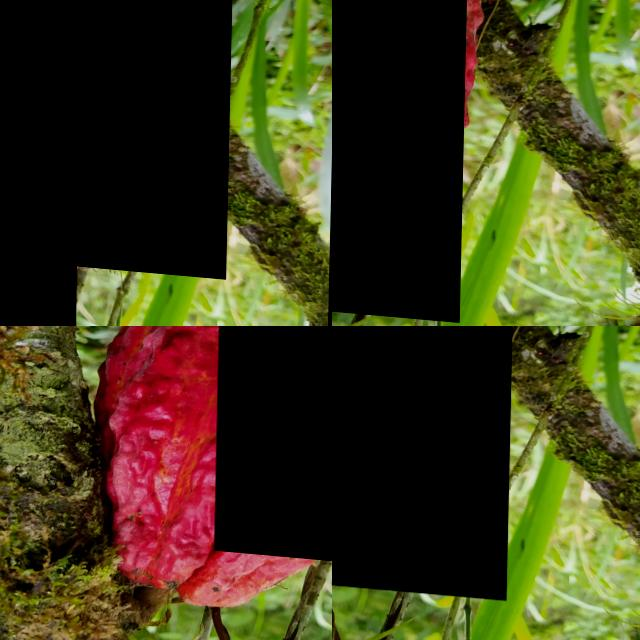Fitoftora: (332, 0, 468, 314)
Monilia: (0, 0, 85, 326)
Sana: (332, 326, 516, 591), (77, 0, 233, 269), (216, 326, 332, 559)
